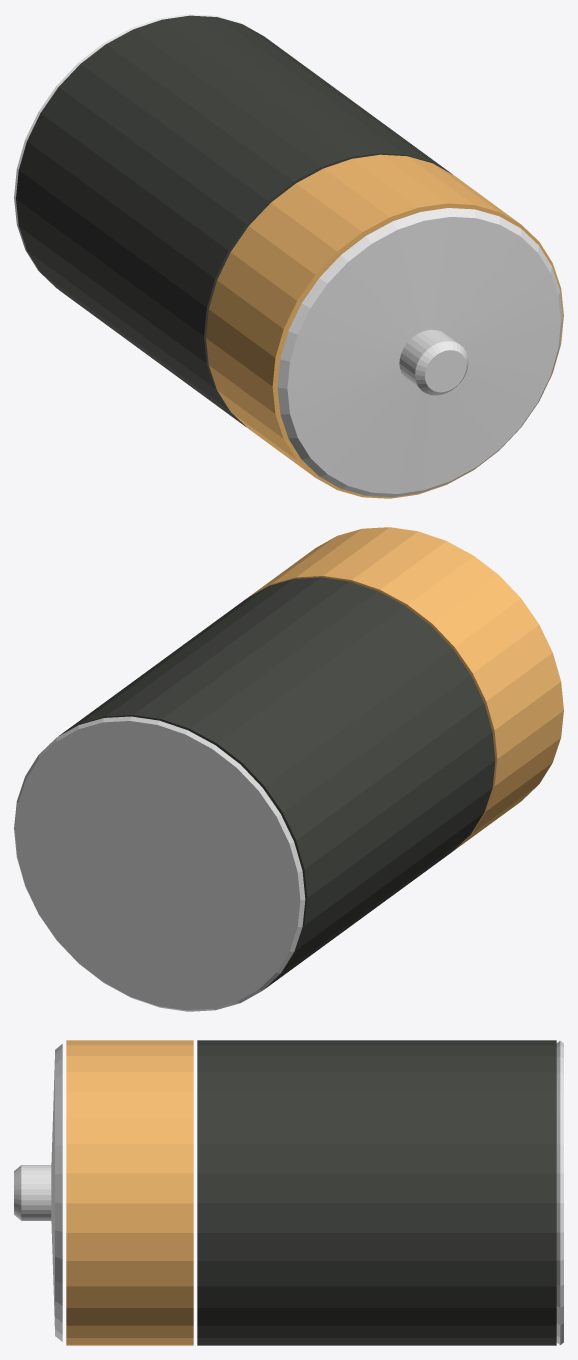
The model's file is BATTERY.glb.
The picture shows the model from 3 angles, top to bottom: view 1: azimuth 30°, elevation 25°; view 2: azimuth 150°, elevation 25°; view 3: azimuth 270°, elevation 25°; orthographic projection. The views are drawn at different scales.
Visible parts, largest first — view 1: _0; view 2: _0; view 3: _0.
Boxes of the visible parts, <box> form: _0: <box>14,14,563,498</box>; _0: <box>14,527,563,1011</box>; _0: <box>14,1040,563,1345</box>.
Bounding box in the file's own units: 4.67 × 4.39 × 7.99.
